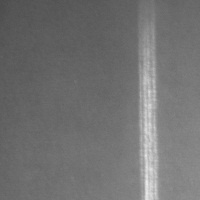scratches: (137, 10, 162, 200)
